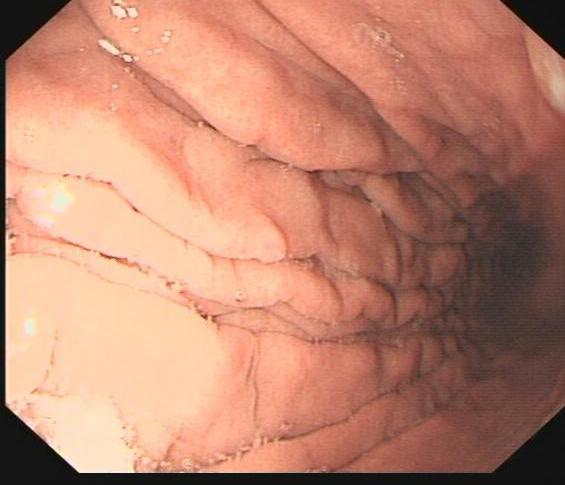Polyp: (233, 210, 293, 269)
